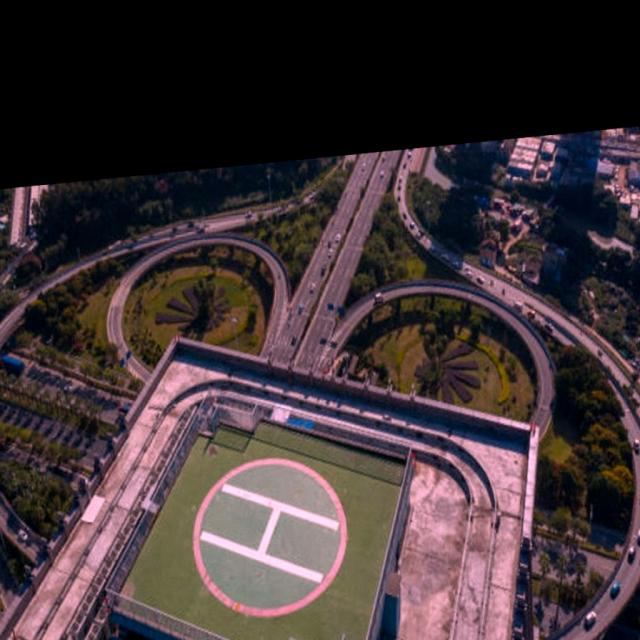helipad: (189, 452, 352, 622)
